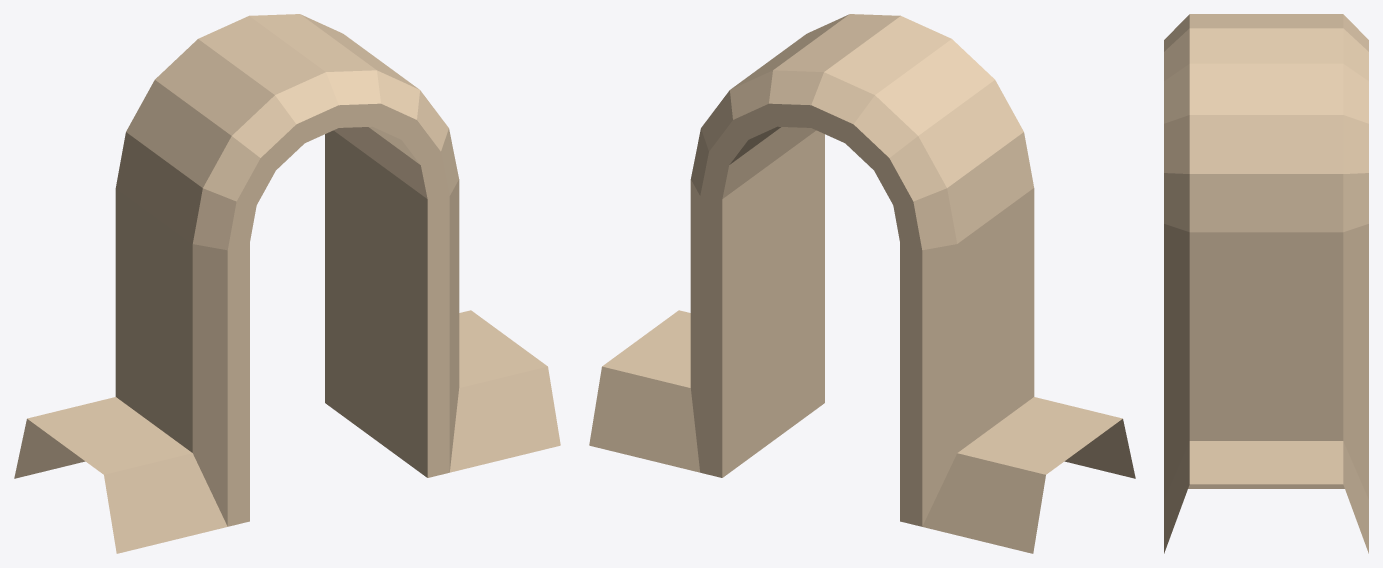
Rendered from LibraryCorridorDoors-transformed.glb.
3 views of the same model, side by side, from view 1: azimuth 30°, elevation 25°; view 2: azimuth 150°, elevation 25°; view 3: azimuth 270°, elevation 25° (orthographic).
Parts seen in each view (by area): view 1: object2.001; view 2: object2.001; view 3: object2.001.
Boxes of the visible parts, left/top/right/bottom form: object2.001: left=14, top=14, right=560, bottom=553; object2.001: left=589, top=14, right=1135, bottom=553; object2.001: left=1164, top=14, right=1368, bottom=553.
Size of the model in its own units: 1 by 0.9 by 0.4.
